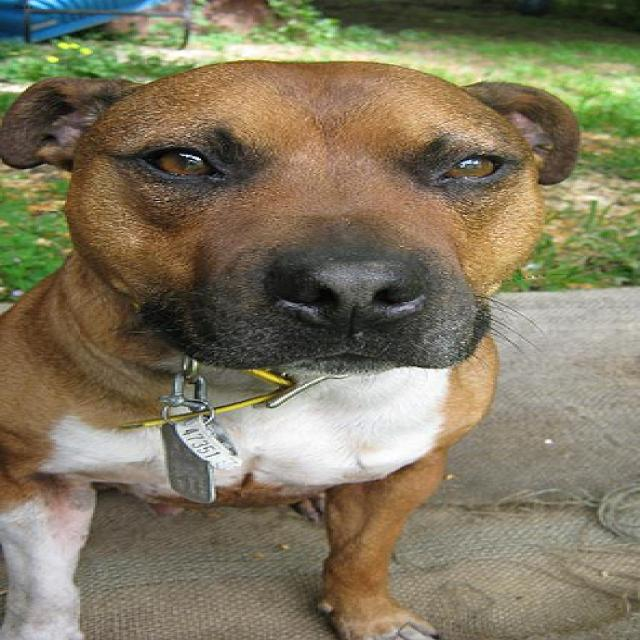dog-staffordshire_bull_terrier: (2, 56, 595, 637)
